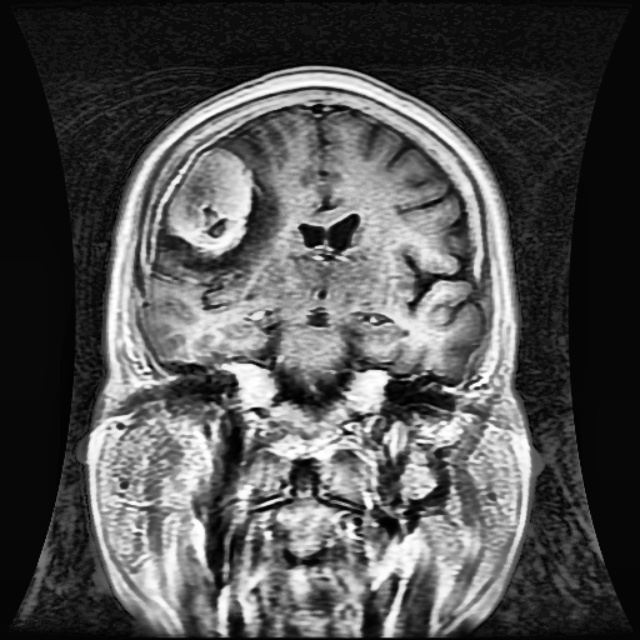Glioma: (169, 145, 250, 250)
